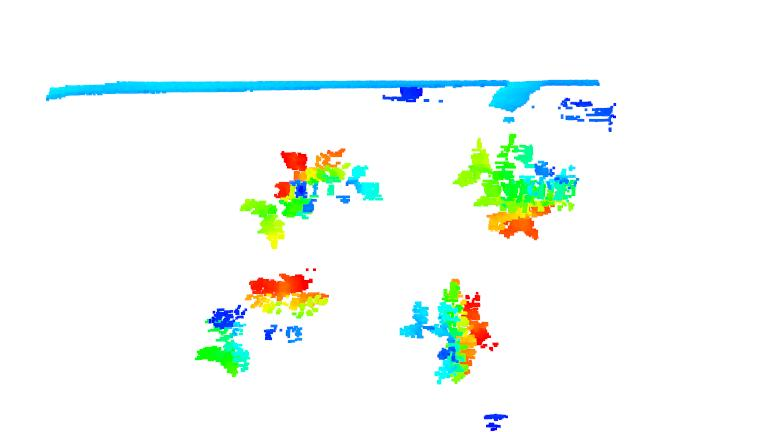chickpea: (396, 274, 503, 388), (485, 160, 599, 243), (286, 144, 389, 213), (232, 175, 320, 249), (451, 133, 533, 208), (243, 263, 334, 324), (190, 303, 252, 385)
